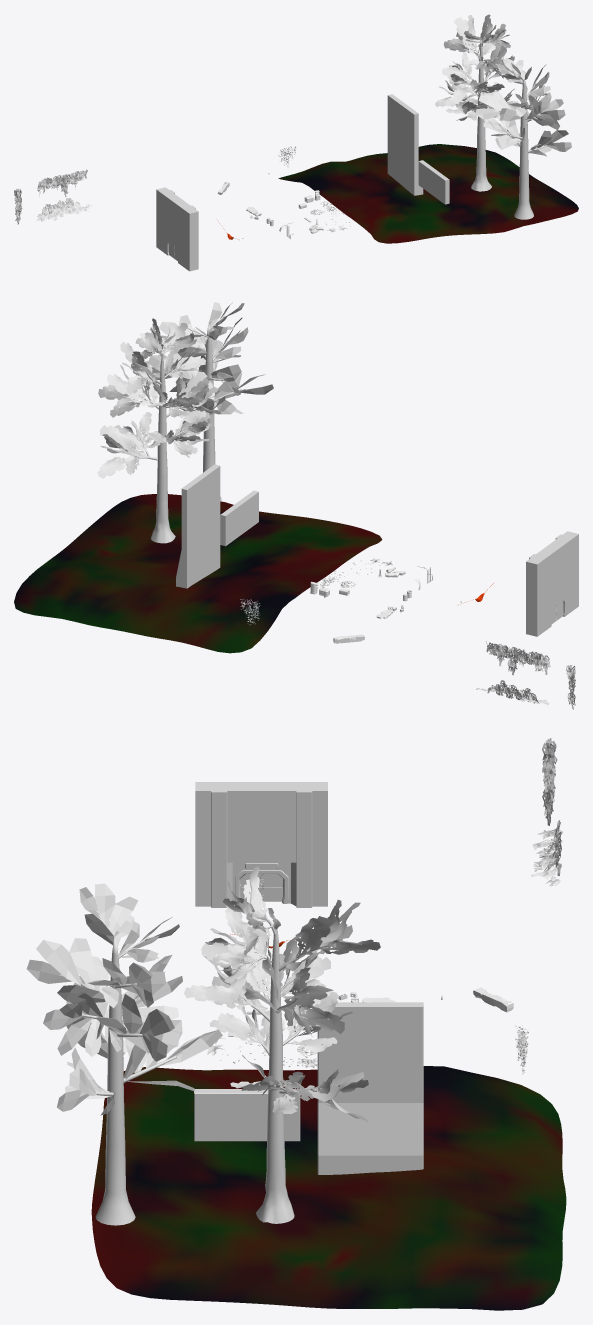
The picture shows the model from 3 angles, top to bottom: view 1: azimuth 30°, elevation 25°; view 2: azimuth 150°, elevation 25°; view 3: azimuth 270°, elevation 25°; orthographic projection. The views are drawn at different scales.
Parts seen in each view (by area): view 1: OutsideGround, Tree_Low, Tree, OuterWall, Doorway, OuterWall_Small, Ivy_Corner, Ivy_Wide; view 2: OutsideGround, Tree, Tree_Low, OuterWall, Doorway, OuterWall_Small, Ivy_Wide, Ivy_Corner; view 3: OutsideGround, Tree_Low, Tree, OuterWall, Doorway, OuterWall_Small, Ivy_Corner.
Part boxes in pixels (bbox=[...]): OutsideGround: bbox=[278, 144, 578, 243]; Tree_Low: bbox=[476, 58, 571, 219]; Tree: bbox=[435, 14, 519, 191]; OuterWall: bbox=[387, 94, 423, 195]; Doorway: bbox=[156, 187, 198, 271]; OuterWall_Small: bbox=[418, 160, 449, 204]; Ivy_Corner: bbox=[36, 198, 92, 221]; Ivy_Wide: bbox=[37, 169, 87, 196]; OutsideGround: bbox=[14, 494, 382, 653]; Tree: bbox=[97, 318, 220, 543]; Tree_Low: bbox=[148, 302, 273, 501]; OuterWall: bbox=[176, 464, 220, 588]; Doorway: bbox=[526, 531, 578, 636]; OuterWall_Small: bbox=[220, 490, 258, 546]; Ivy_Wide: bbox=[485, 641, 550, 675]; Ivy_Corner: bbox=[476, 680, 548, 705]; OutsideGround: bbox=[91, 1066, 566, 1310]; Tree_Low: bbox=[26, 883, 222, 1225]; Tree: bbox=[184, 866, 380, 1223]; OuterWall: bbox=[317, 1002, 423, 1174]; Doorway: bbox=[195, 782, 327, 907]; OuterWall_Small: bbox=[194, 1089, 300, 1141]; Ivy_Corner: bbox=[531, 820, 563, 886].
Size of the model in its own units: 101 by 38.61 by 50.84.
